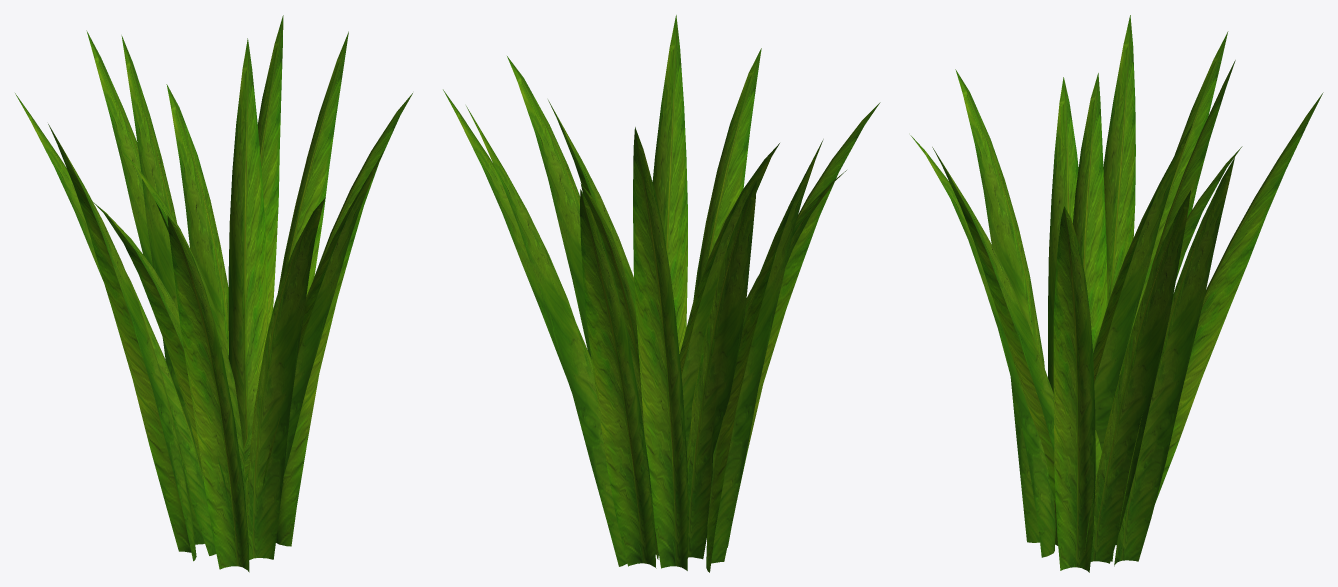
The model's file is grass.fbx.
3 renders of one model, left to right at view 1: azimuth 30°, elevation 25°; view 2: azimuth 150°, elevation 25°; view 3: azimuth 270°, elevation 25°, orthographic. The views are drawn at different scales.
Parts seen in each view (by area): view 1: polySurface1; view 2: polySurface1; view 3: polySurface1.
Part boxes in pixels (x1=…): polySurface1: x1=15, y1=15, x2=412, y2=572; polySurface1: x1=443, y1=15, x2=880, y2=572; polySurface1: x1=910, y1=15, x2=1323, y2=572.
Size of the model in its own units: 11.01 by 14.79 by 11.75.
Materials: 1 (1 with a texture image).
